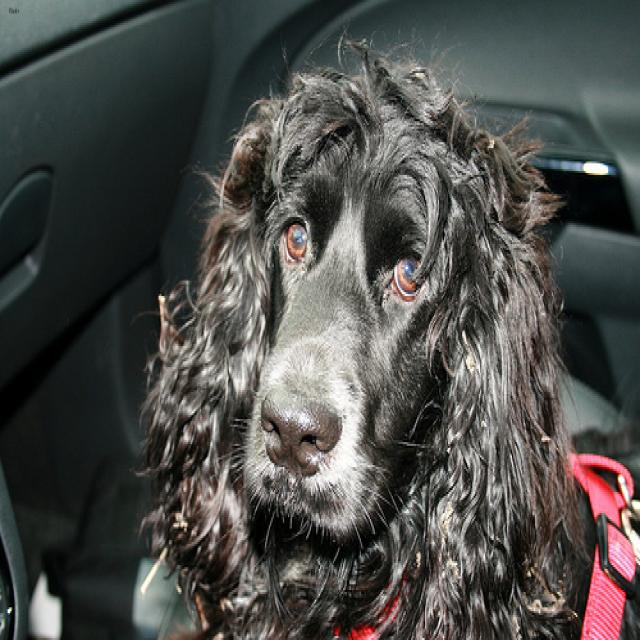dog-english_cocker_spaniel: (134, 29, 594, 636)
